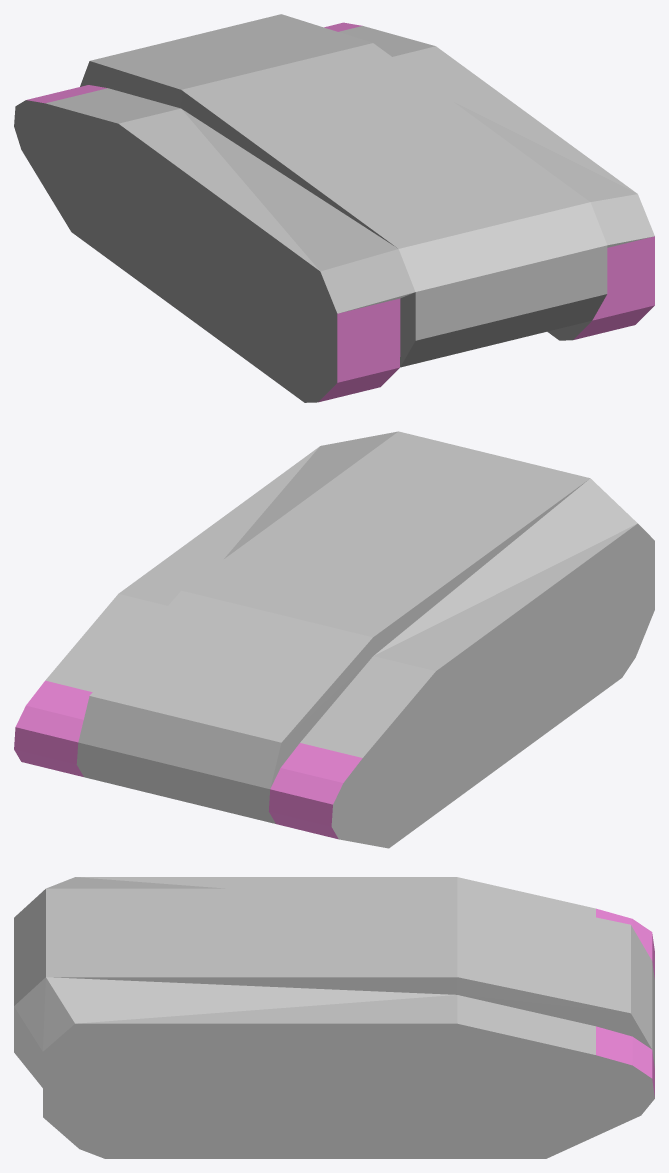
3 renders of one model, top to bottom at view 1: azimuth 30°, elevation 25°; view 2: azimuth 150°, elevation 25°; view 3: azimuth 270°, elevation 25°, orthographic. The views are drawn at different scales.
Parts seen in each view (by area): view 1: hull; view 2: hull; view 3: hull.
Part boxes in pixels (bbox=[...]): hull: bbox=[14, 14, 654, 402]; hull: bbox=[14, 431, 654, 848]; hull: bbox=[14, 877, 654, 1158].
Size of the model in its own units: 277 by 135 by 512.
